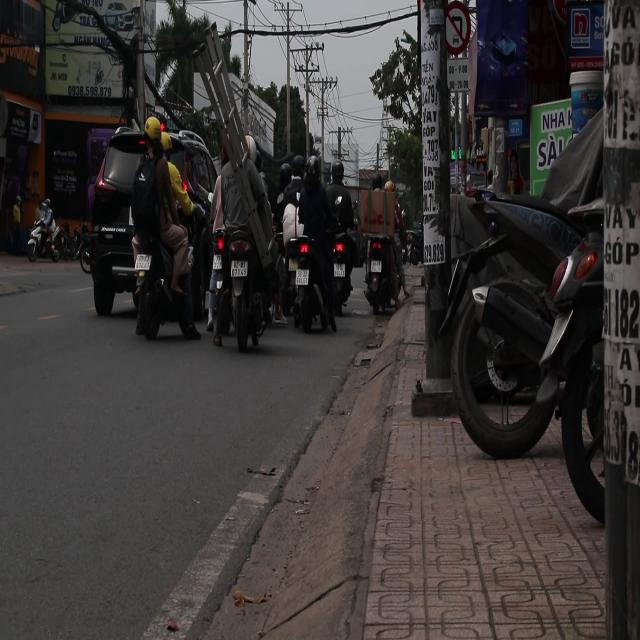car: (78, 116, 237, 337)
motorbike: (206, 138, 278, 352), (118, 194, 209, 356), (280, 187, 338, 337), (359, 184, 410, 313), (324, 177, 361, 314), (27, 217, 63, 264)
